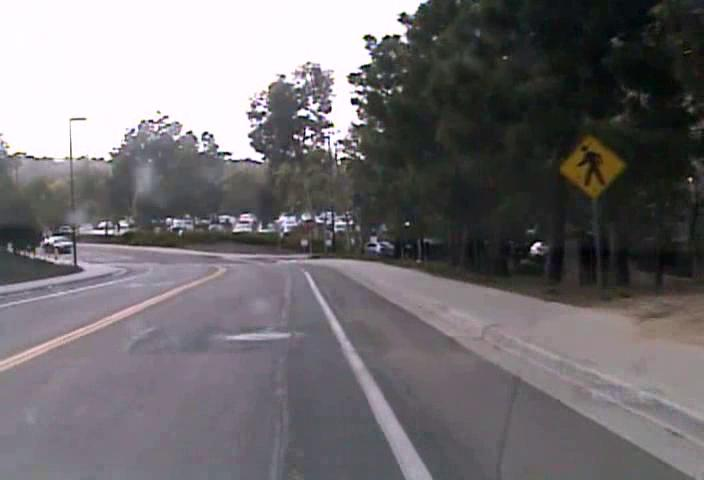pedestrianCrossing: (558, 133, 626, 198)
